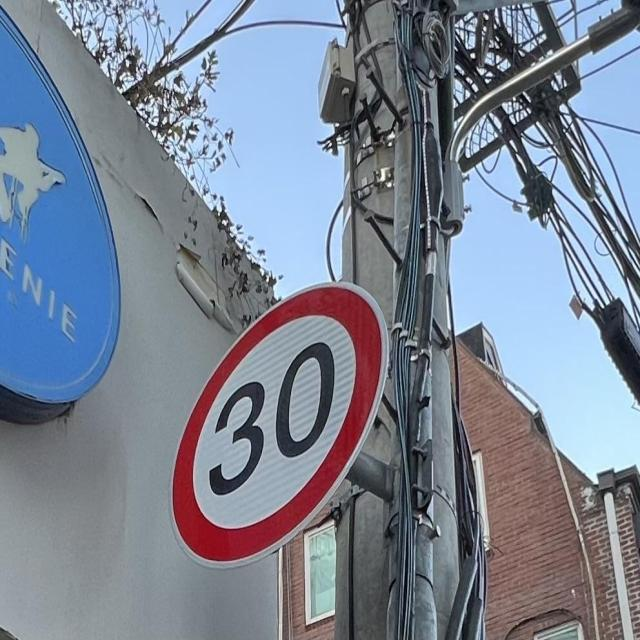Ograniczenie predkosci do 30: (169, 283, 391, 567)
